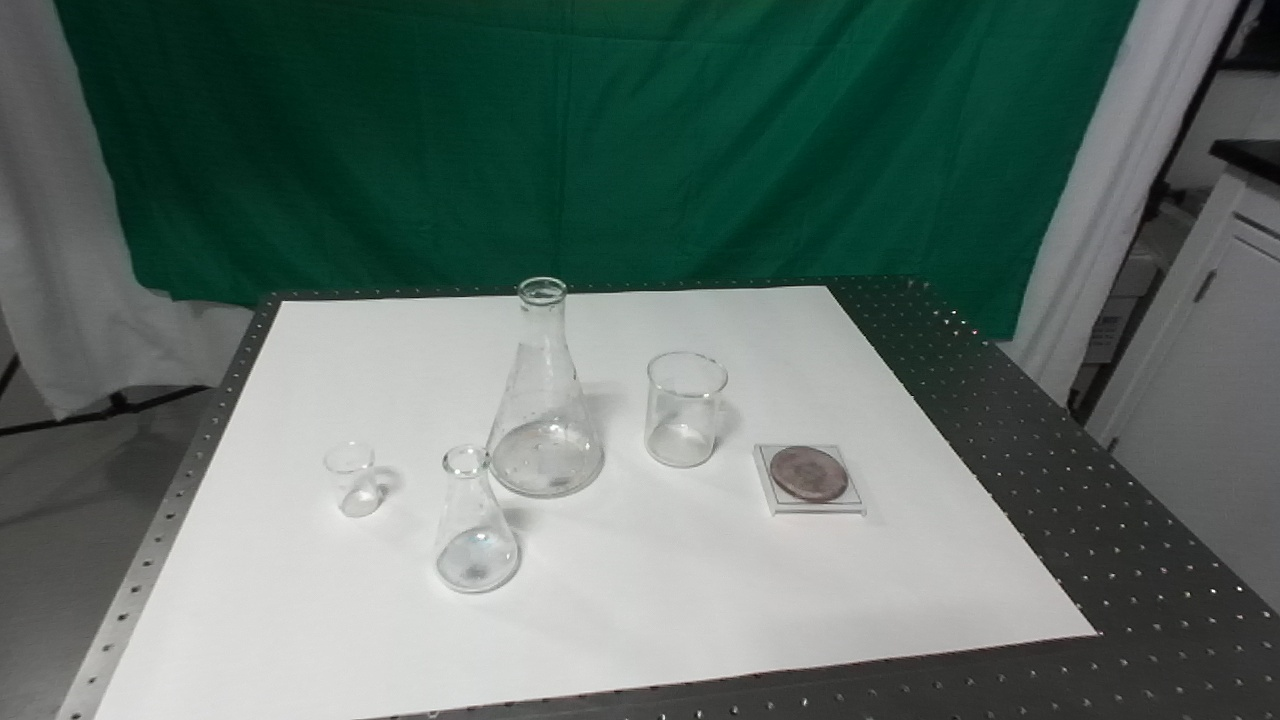glass: (482, 273, 607, 504), (425, 443, 525, 599), (639, 345, 730, 472), (322, 436, 385, 523)
plate: (748, 437, 872, 522)
